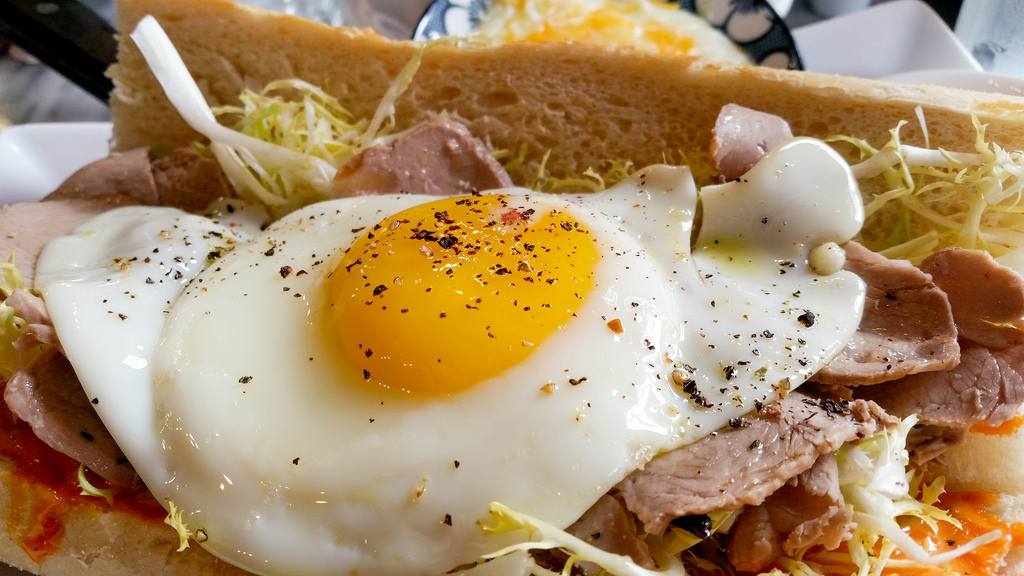fried egg: (106, 193, 709, 516)
